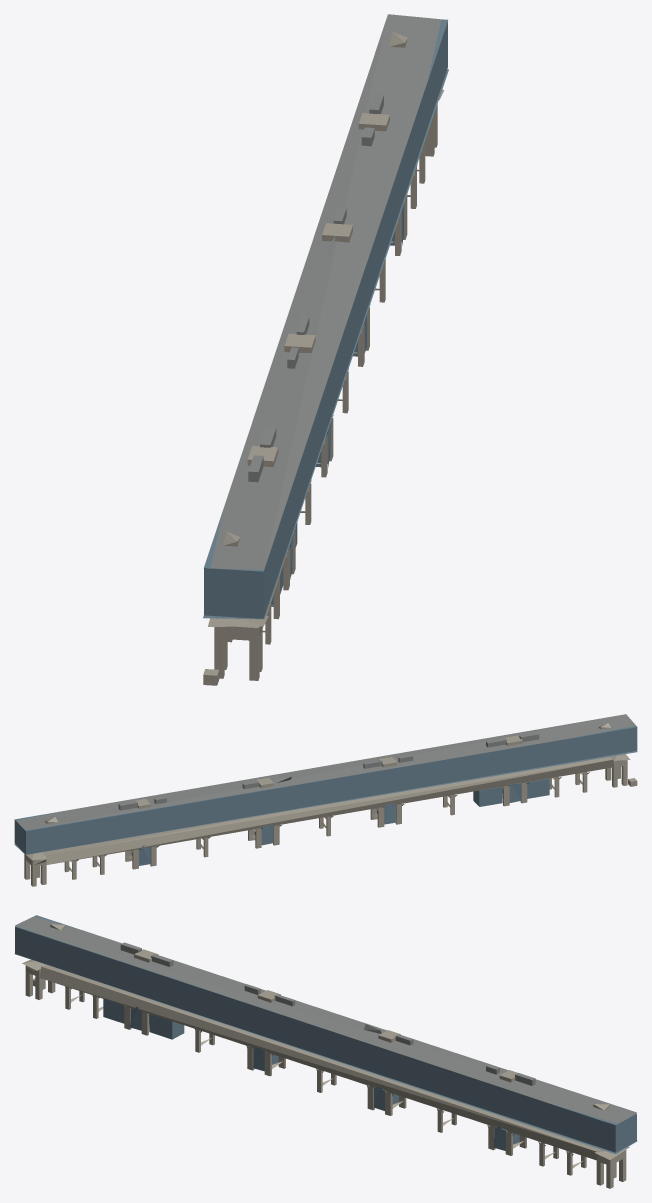
File: kraanspoor.lod2.glb
The picture shows the model from 3 angles, top to bottom: view 1: azimuth 30°, elevation 25°; view 2: azimuth 150°, elevation 25°; view 3: azimuth 270°, elevation 25°; orthographic projection. The views are drawn at different scales.
Visible parts, largest first — view 1: lod2; view 2: lod2; view 3: lod2.
Boxes of the visible parts, x1,y1,x2,y2 form: lod2: (203,14,448,685); lod2: (14,714,637,886); lod2: (14,915,637,1188).
Size of the model in its own units: 171 by 28.09 by 213.
